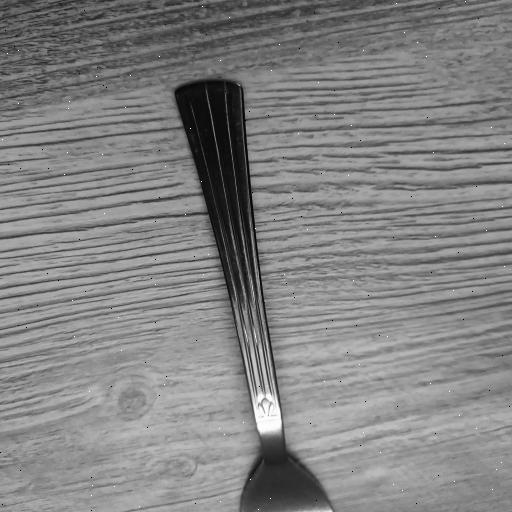fork: (167, 74, 341, 512)
